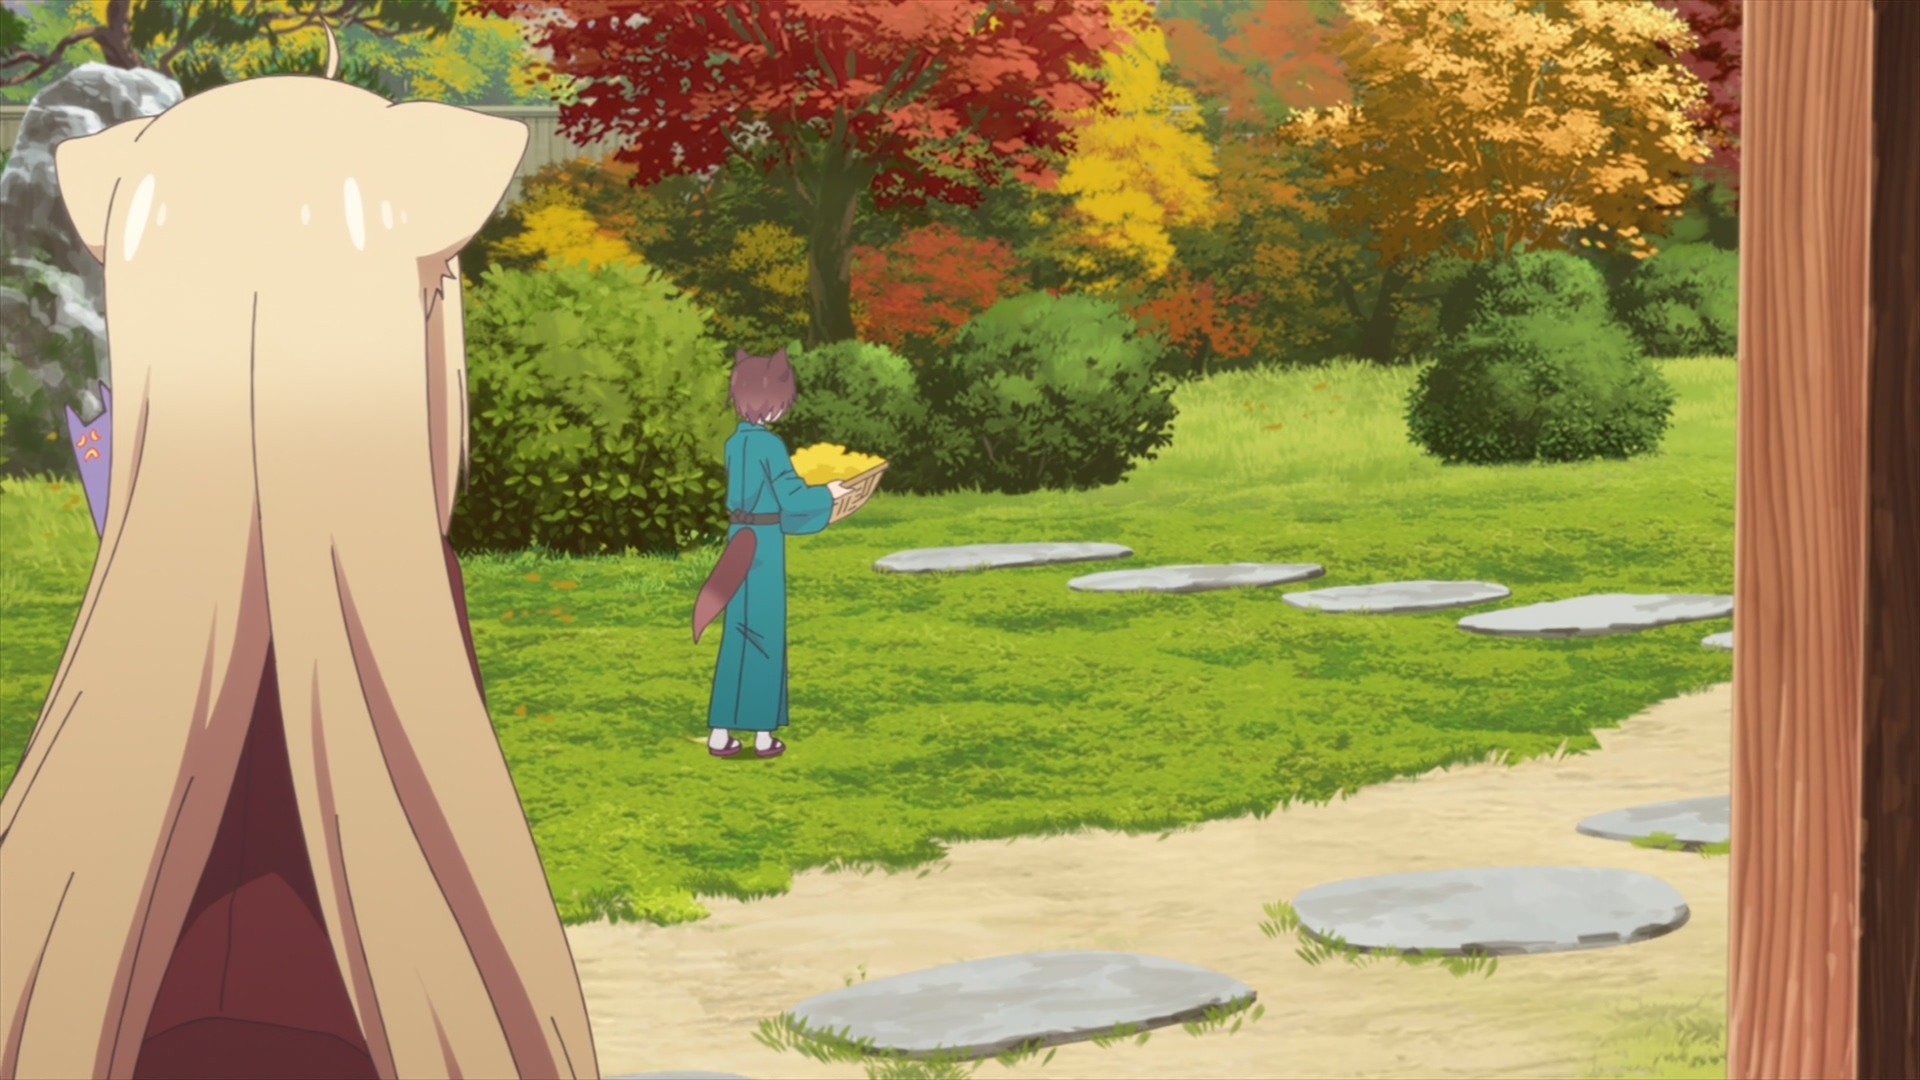枣: (688, 348, 851, 757)
柚: (1, 22, 597, 1080)
皋: (65, 382, 112, 542)
